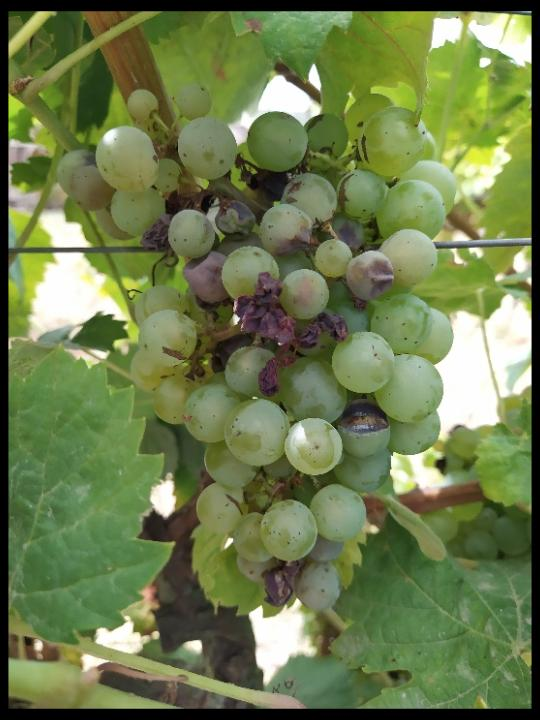grape: (53, 79, 462, 616)
